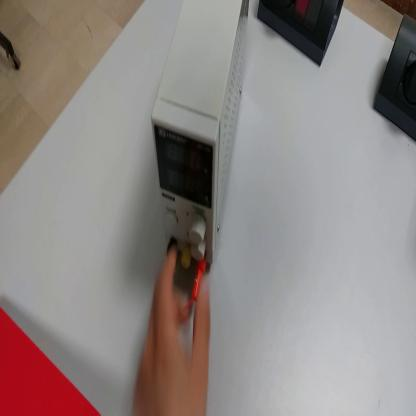hand: (132, 239, 212, 416)
power supply: (151, 1, 250, 267)
register: (2, 307, 103, 414)
socket: (257, 1, 345, 71), (374, 13, 416, 144)
